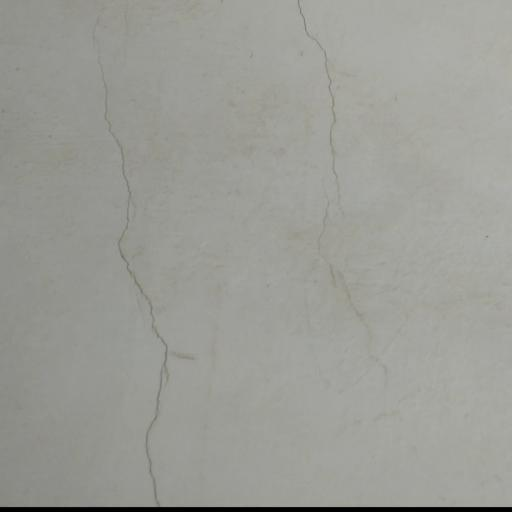minor_crack: (75, 0, 186, 508), (276, 0, 410, 413)
